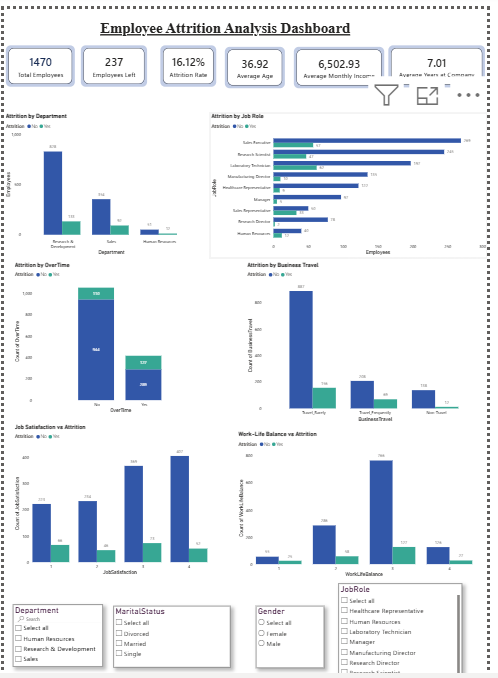

The page's visual inventory and layout, read from the dashboard file:
{"tool":"powerbi","page":{"name":"Page 1","canvas":[1400,2000],"ordinal":0},"visuals":[{"type":"cardVisual","fields":{"Data":["Employee.Total Employees"]},"box":[0,102,210,130],"z":0},{"type":"cardVisual","fields":{"Data":["Employee.Employees Left"]},"box":[218,102,202,130],"z":1000},{"type":"cardVisual","fields":{"Data":["Employee.Attrition Rate"]},"box":[448,102,172,130],"z":2000},{"type":"cardVisual","fields":{"Data":["Employee.Average Age"]},"box":[636,104,184,130],"z":3000},{"type":"cardVisual","fields":{"Data":["Employee.Average Monthly Income"]},"box":[834,104,272,130],"z":4000},{"type":"cardVisual","fields":{"Data":["Employee.Average Years at Company"]},"box":[1110,102,290,132],"z":5000},{"type":"clusteredColumnChart","title":"Attrition by Department","fields":{"Category":["Employee.Department"],"Series":["Employee.Attrition"],"Y":["CountNonNull(Employee.Department)"]},"box":[0,302,568,418],"z":6000},{"type":"textbox","box":[69.6,24.3,1099.5,64.8],"z":7000},{"type":"clusteredBarChart","title":"Attrition by Job Role","fields":{"Category":["Employee.JobRole"],"Y":["CountNonNull(Employee.JobRole)"],"Series":["Employee.Attrition"]},"box":[594,302,806,418],"z":8000},{"type":"columnChart","title":"Attrition by OverTime","fields":{"Category":["Employee.OverTime"],"Y":["CountNonNull(Employee.OverTime)"],"Series":["Employee.Attrition"]},"box":[26,730,564,446],"z":9000},{"type":"clusteredColumnChart","title":"Attrition by Business Travel","fields":{"Category":["Employee.BusinessTravel"],"Y":["CountNonNull(Employee.BusinessTravel)"],"Series":["Employee.Attrition"]},"box":[700,730,700,470],"z":10000},{"type":"clusteredColumnChart","title":"Job Satisfaction vs Attrition","fields":{"Category":["Employee.JobSatisfaction"],"Y":["CountNonNull(Employee.JobSatisfaction)"],"Series":["Employee.Attrition"]},"box":[26,1200,568,446],"z":11000},{"type":"clusteredColumnChart","title":"Work-Life Balance vs Attrition","fields":{"Category":["Employee.WorkLifeBalance"],"Y":["CountNonNull(Employee.WorkLifeBalance)"],"Series":["Employee.Attrition"]},"box":[674,1220,688,430],"z":12000},{"type":"listSlicer","fields":{"Values":["Employee.Department"]},"box":[24,1728,260,180],"z":13000},{"type":"listSlicer","fields":{"Values":["Employee.Gender"]},"box":[728.6,1729.9,197.4,179.2],"z":14000},{"type":"listSlicer","fields":{"Values":["Employee.JobRole"]},"box":[970,1664,358,308],"z":15000},{"type":"listSlicer","fields":{"Values":["Employee.MaritalStatus"]},"box":[319.5,1731.2,339,177.9],"z":16000}]}

Visuals, with their boxes on the page's 1400x2000 design canvas (x1, y1, x2, y2). These are canvas units, not pixel positions in the 498x678 screenshot, which may show the page scaled, cropped or inside an application window:
cardVisual - Employee.Total Employees: crop(0, 102, 210, 232)
cardVisual - Employee.Employees Left: crop(218, 102, 420, 232)
cardVisual - Employee.Attrition Rate: crop(448, 102, 620, 232)
cardVisual - Employee.Average Age: crop(636, 104, 820, 234)
cardVisual - Employee.Average Monthly Income: crop(834, 104, 1106, 234)
cardVisual - Employee.Average Years at Company: crop(1110, 102, 1400, 234)
"Attrition by Department" clusteredColumnChart: crop(0, 302, 568, 720)
textbox: crop(70, 24, 1169, 89)
"Attrition by Job Role" clusteredBarChart: crop(594, 302, 1400, 720)
"Attrition by OverTime" columnChart: crop(26, 730, 590, 1176)
"Attrition by Business Travel" clusteredColumnChart: crop(700, 730, 1400, 1200)
"Job Satisfaction vs Attrition" clusteredColumnChart: crop(26, 1200, 594, 1646)
"Work-Life Balance vs Attrition" clusteredColumnChart: crop(674, 1220, 1362, 1650)
listSlicer - Employee.Department: crop(24, 1728, 284, 1908)
listSlicer - Employee.Gender: crop(729, 1730, 926, 1909)
listSlicer - Employee.JobRole: crop(970, 1664, 1328, 1972)
listSlicer - Employee.MaritalStatus: crop(320, 1731, 658, 1909)
